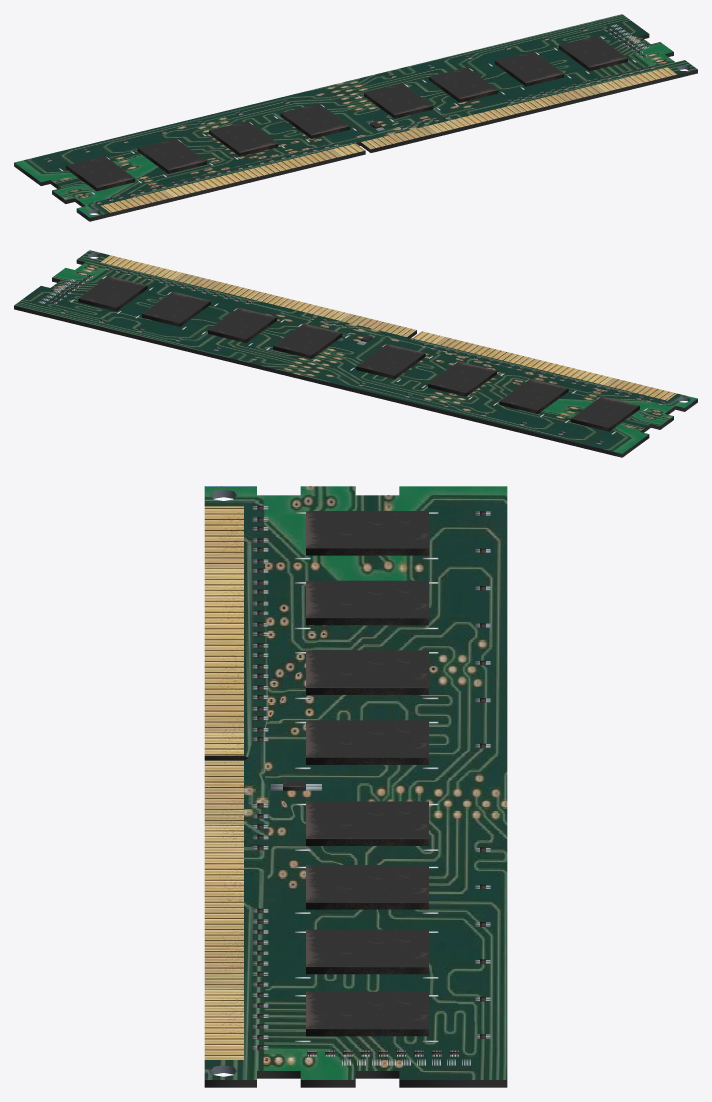
Rendered from ram.glb.
The picture shows the model from 3 angles, top to bottom: view 1: azimuth 30°, elevation 25°; view 2: azimuth 150°, elevation 25°; view 3: azimuth 270°, elevation 25°; orthographic projection. The views are drawn at different scales.
Visible parts, largest first — view 1: MEmoryQ; view 2: MEmoryQ; view 3: MEmoryQ.
Part boxes in pixels (box(x1,y1,x2,y2)): MEmoryQ: box(14, 14, 697, 221); MEmoryQ: box(14, 250, 697, 457); MEmoryQ: box(204, 486, 507, 1087).
Bounding box in the file's own units: 13 × 0.1524 × 2.8.
1 material, 1 textured.
